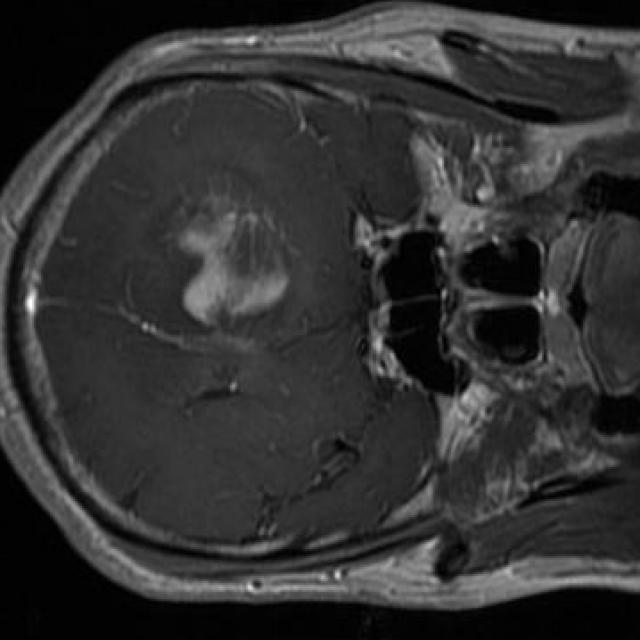glioma: (178, 194, 294, 326)
